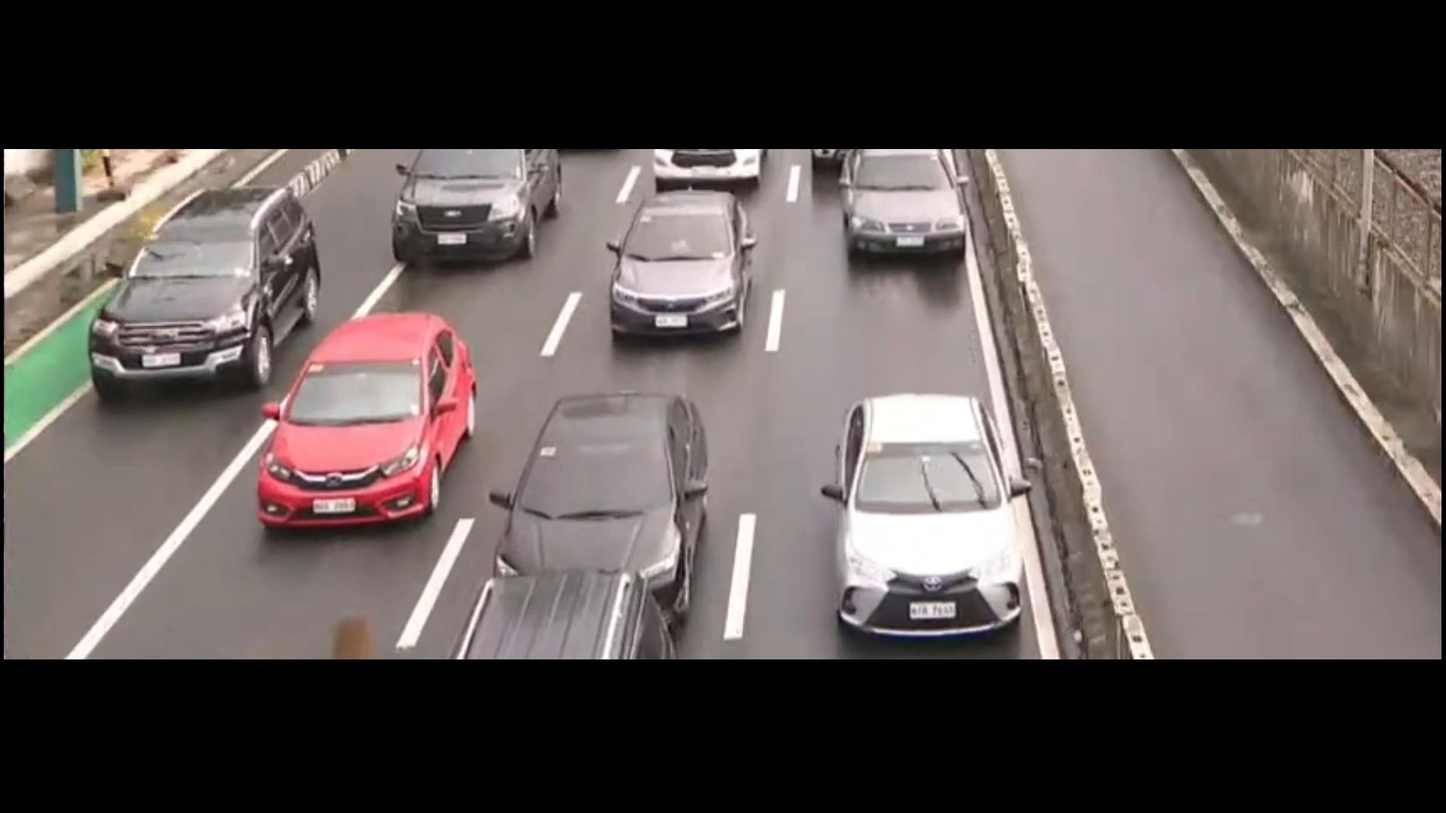SUV: (254, 314, 491, 531), (92, 184, 324, 395), (424, 562, 703, 659), (377, 151, 563, 247)
Sedan: (491, 376, 725, 621), (813, 382, 1032, 642), (608, 198, 755, 337), (815, 151, 985, 271)
